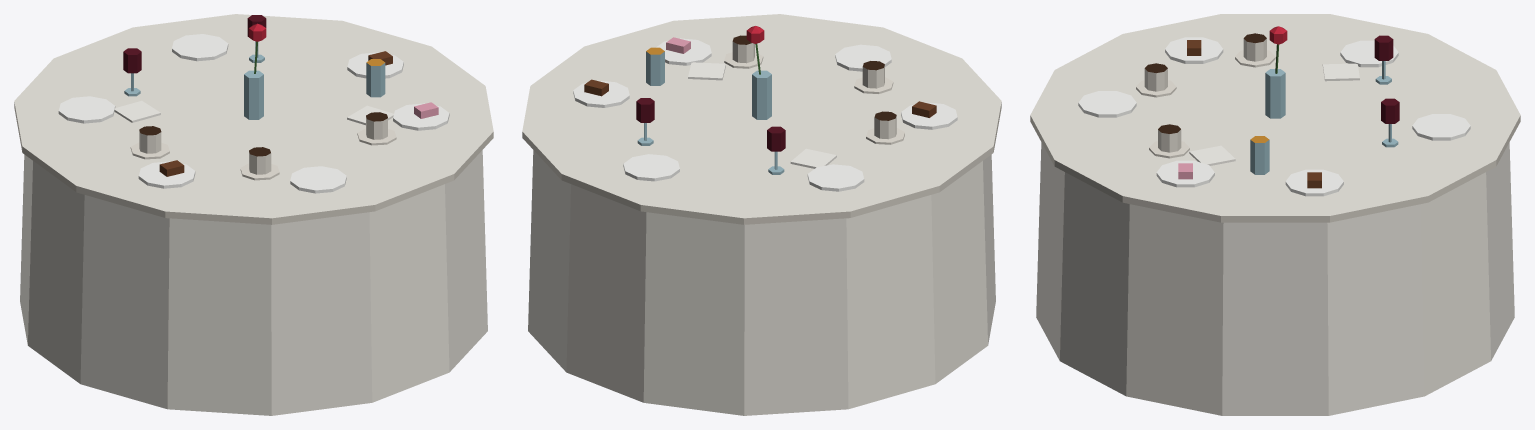
Rendered from Table5.obj.
The picture shows the model from 3 angles, left to right: view 1: azimuth 30°, elevation 25°; view 2: azimuth 150°, elevation 25°; view 3: azimuth 270°, elevation 25°; orthographic projection.
Parts seen in each view (by area): view 1: Table5; view 2: Table5; view 3: Table5.
Part boxes in pixels (left/top/right/bottom): Table5: left=14, top=14, right=493, bottom=415; Table5: left=522, top=14, right=1001, bottom=415; Table5: left=1030, top=14, right=1520, bottom=415.
Size of the model in its own units: 1.64 by 1.11 by 1.68.
Materials: 1 (1 with a texture image).
